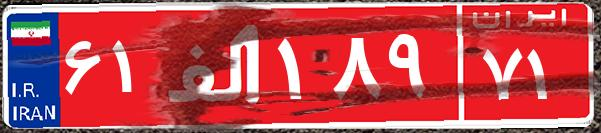1: (273, 28, 330, 110), (110, 28, 158, 105), (525, 38, 570, 115)
6: (57, 26, 110, 107)
7: (475, 38, 525, 113)
8: (330, 28, 385, 110)
9: (385, 28, 445, 110)
الف: (158, 15, 273, 115)
